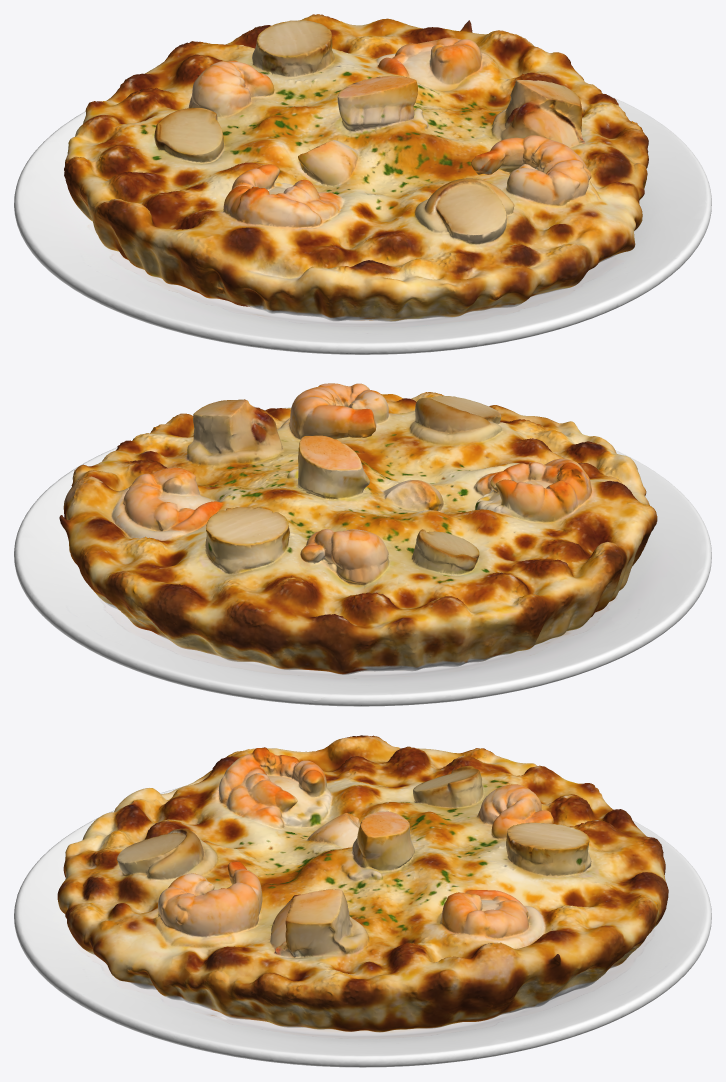
The model's file is Meshy_AI_seafood_gratin_0722040146_image-to-3d-texture-v1.glb.
3 renders of one model, top to bottom at view 1: azimuth 30°, elevation 25°; view 2: azimuth 150°, elevation 25°; view 3: azimuth 270°, elevation 25°, orthographic.
Size of the model in its own units: 1.9 by 0.4492 by 1.9.
1 material, 1 textured.
